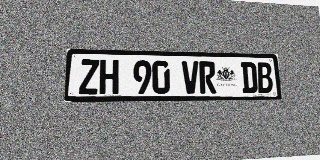0: (152, 60, 170, 94)
9: (133, 60, 152, 94)
B: (256, 62, 273, 93)
D: (241, 62, 258, 93)
H: (99, 59, 119, 94)
R: (199, 61, 216, 94)
V: (182, 61, 199, 94)
Z: (79, 59, 99, 94)
